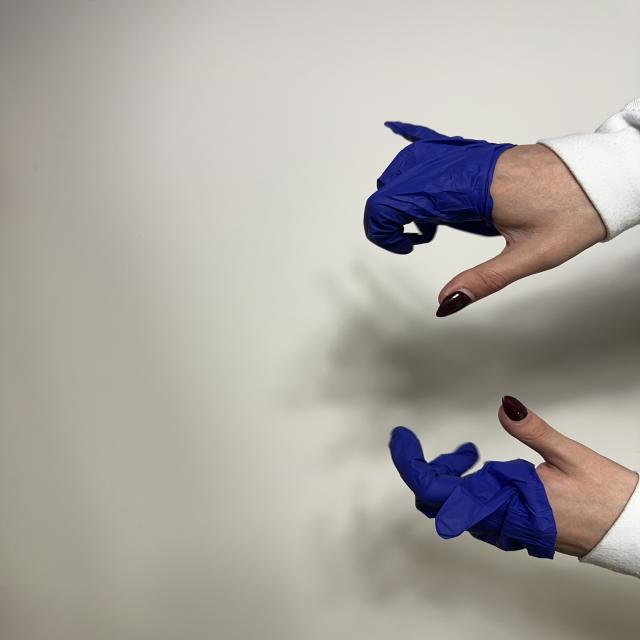glove_partial: (365, 123, 605, 317), (390, 396, 638, 558)
